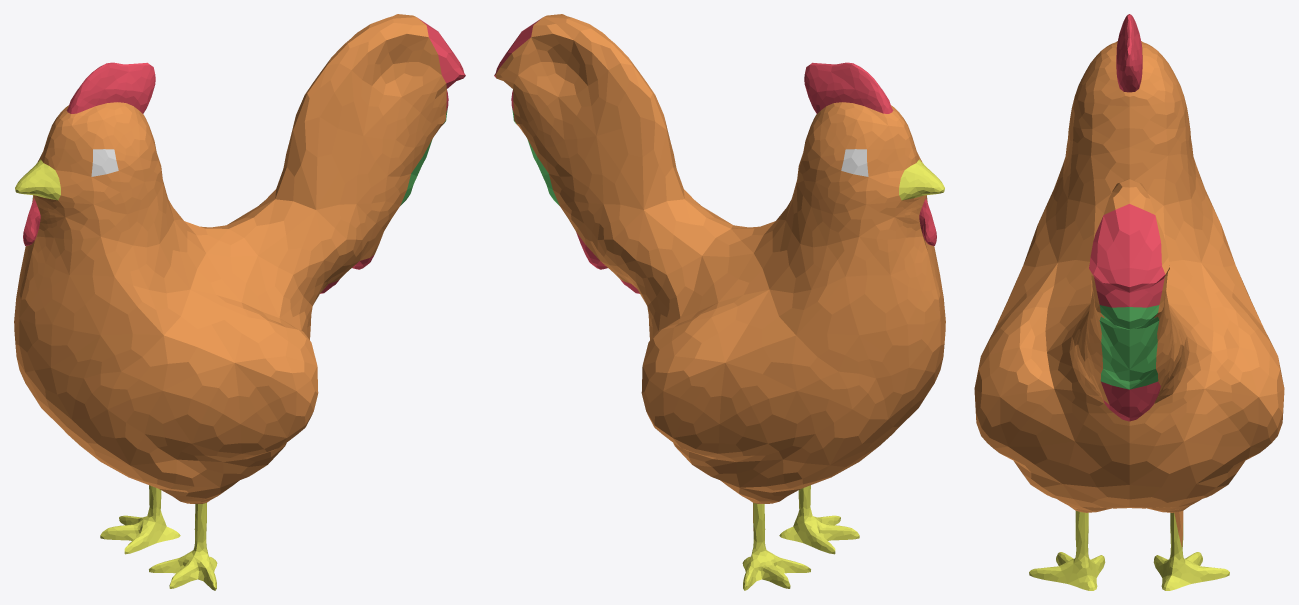
The model's file is chikken.glb.
3 renders of one model, left to right at view 1: azimuth 30°, elevation 25°; view 2: azimuth 150°, elevation 25°; view 3: azimuth 270°, elevation 25°, orthographic. The views are drawn at different scales.
Visible parts, largest first — view 1: Line001_Material #26_0; view 2: Line001_Material #26_0; view 3: Line001_Material #26_0.
Part boxes in pixels (<box>): Line001_Material #26_0: <box>14,14,465,590</box>; Line001_Material #26_0: <box>494,14,945,590</box>; Line001_Material #26_0: <box>974,14,1284,590</box>.
Size of the model in its own units: 2.6 by 2.84 by 1.51.
